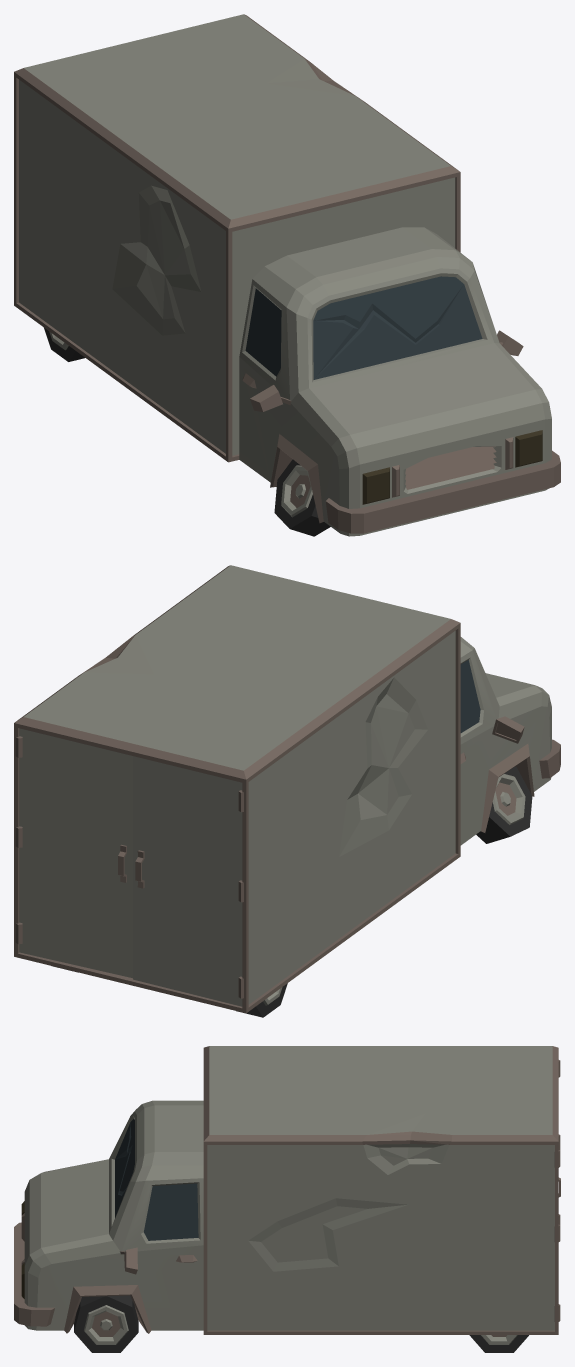
Rendered from LP_PostApoc_Car2.fbx.
The picture shows the model from 3 angles, top to bottom: view 1: azimuth 30°, elevation 25°; view 2: azimuth 150°, elevation 25°; view 3: azimuth 270°, elevation 25°; orthographic projection. The views are drawn at different scales.
Visible parts, largest first — view 1: Car2; view 2: Car2; view 3: Car2.
Boxes of the visible parts, x1=… form: Car2: x1=14, y1=14, x2=560, y2=536; Car2: x1=14, y1=565, x2=560, y2=1017; Car2: x1=14, y1=1046, x2=560, y2=1352.
Size of the model in its own units: 288 by 276 by 611.
